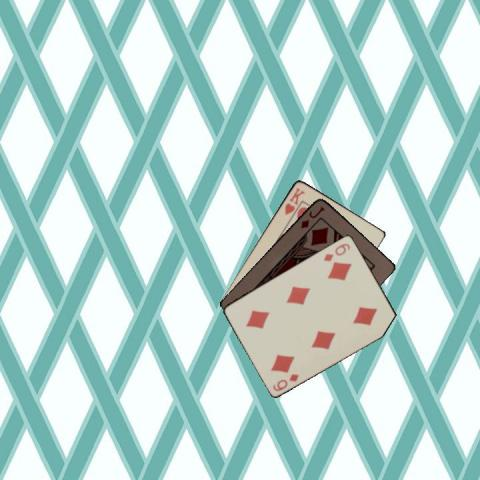6d: (321, 240, 351, 263), (270, 371, 301, 392)
Jd: (297, 203, 326, 230)
Kh: (281, 185, 306, 216)
